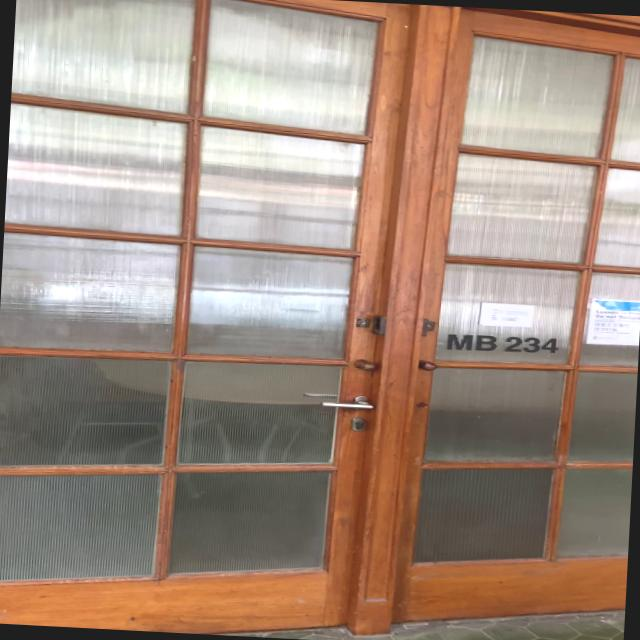room234Window: (440, 331, 563, 358)
